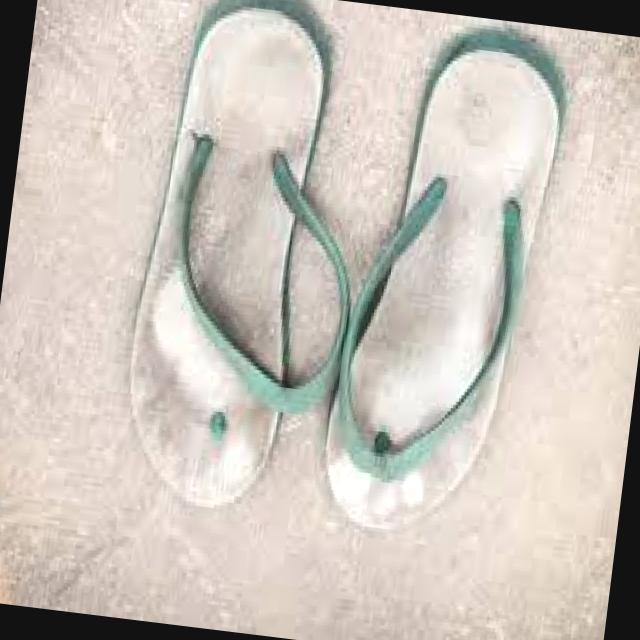dep: (326, 38, 562, 530), (130, 2, 348, 505)
